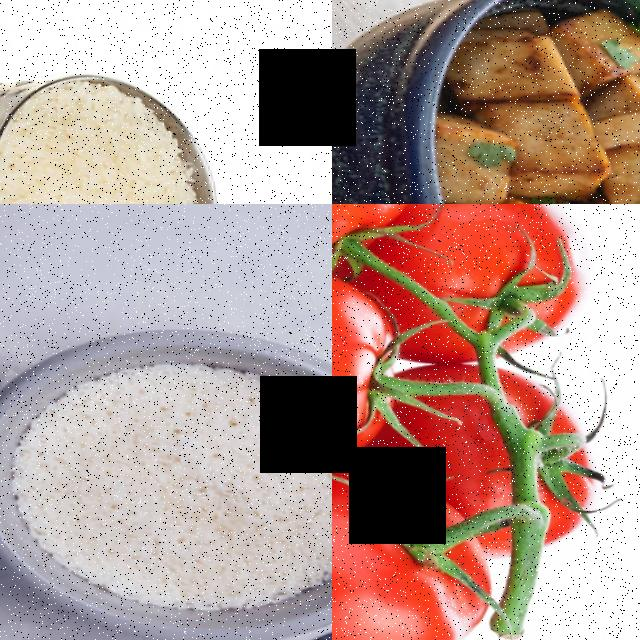tofu: (491, 97, 604, 197), (589, 103, 640, 204)
tomato: (332, 461, 495, 640), (332, 254, 412, 474)
white rice: (20, 377, 332, 585), (0, 85, 190, 204)
